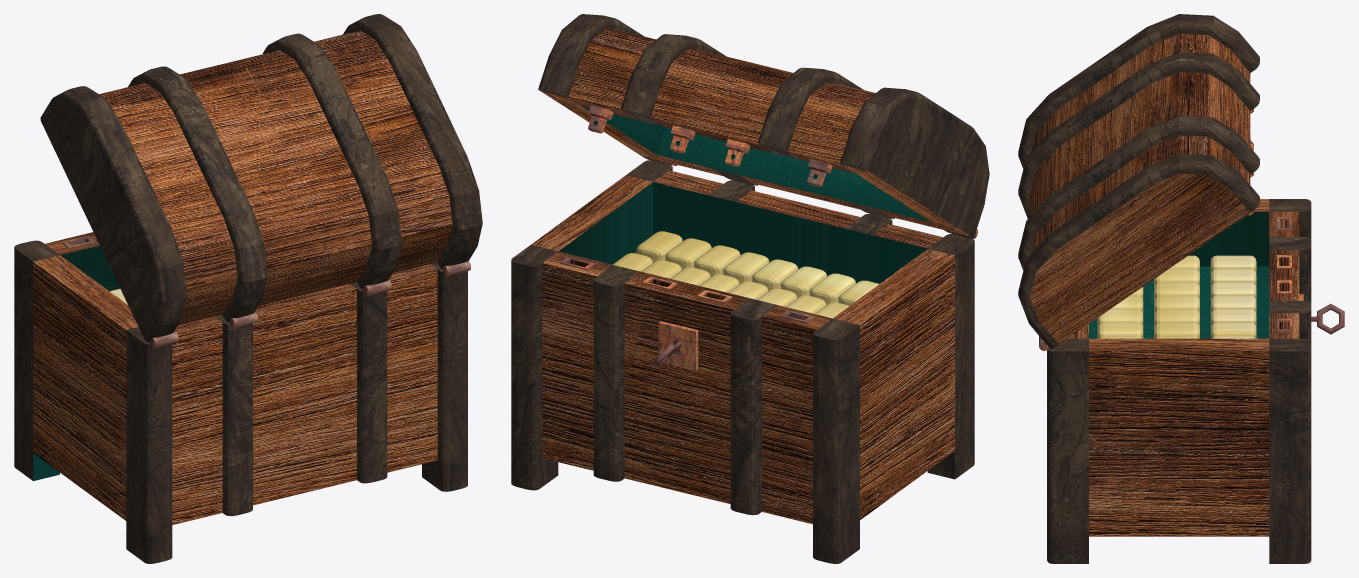
The model's file is tesoro.gltf.
The picture shows the model from 3 angles, left to right: view 1: azimuth 30°, elevation 25°; view 2: azimuth 150°, elevation 25°; view 3: azimuth 270°, elevation 25°; orthographic projection. The views are drawn at different scales.
Visible parts, largest first — view 1: Cassa_0, Coperchio_3, Cerniere_7; view 2: Cassa_0, Coperchio_3, Lingotti_4, Serratura_5; view 3: Cassa_0, Coperchio_3, Lingotti_4, Serratura_5, Chiave_6.
Boxes of the visible parts, x1,y1,x2,y2 form: Cassa_0: (14, 232, 467, 563); Coperchio_3: (40, 14, 482, 342); Cerniere_7: (150, 261, 470, 347); Cassa_0: (511, 160, 974, 563); Coperchio_3: (538, 14, 989, 238); Lingotti_4: (613, 231, 878, 318); Serratura_5: (560, 256, 814, 370); Cassa_0: (1047, 199, 1311, 563); Coperchio_3: (1018, 14, 1259, 348); Lingotti_4: (1097, 255, 1256, 338); Serratura_5: (1277, 217, 1303, 332); Chiave_6: (1311, 303, 1344, 334).
Size of the model in its own units: 6 by 7.34 by 5.43.
6 materials, 5 textured.
